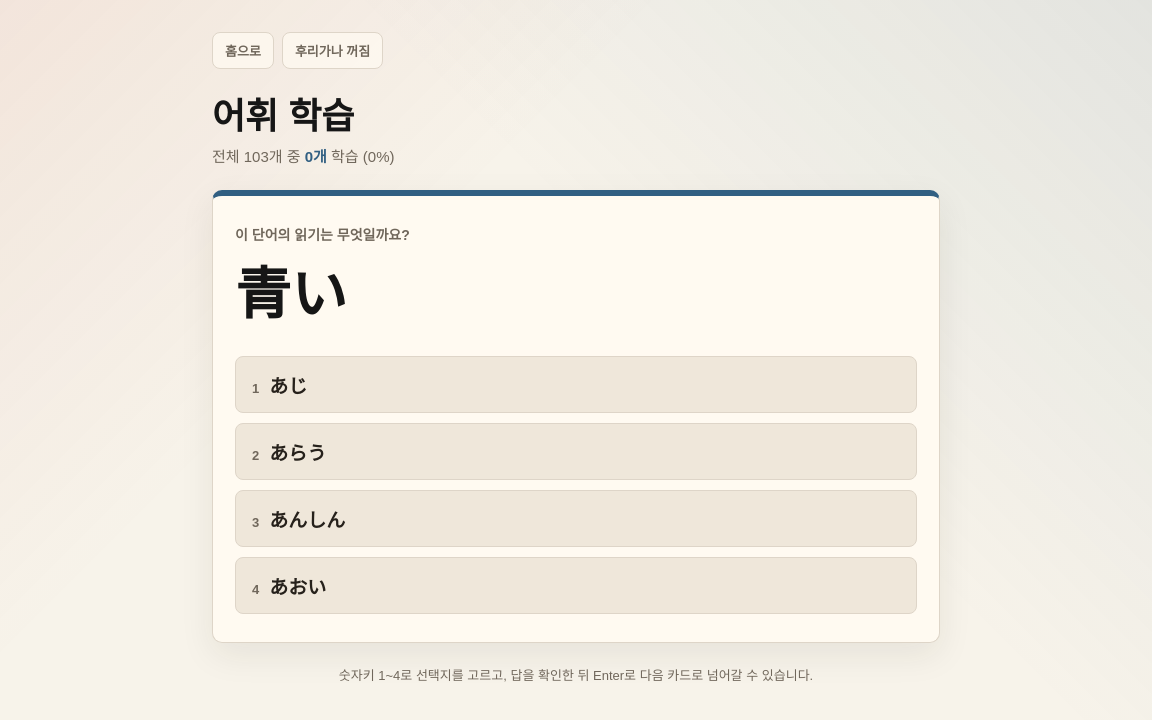
Test: 학습 화면 (S1, AC-4) › 후리가나를 켜고 답하면 예문의 한자에 읽기가 붙는다 (JN4-032)
Click the button "후리가나 꺼짐": (333, 50) [282,32,383,69]
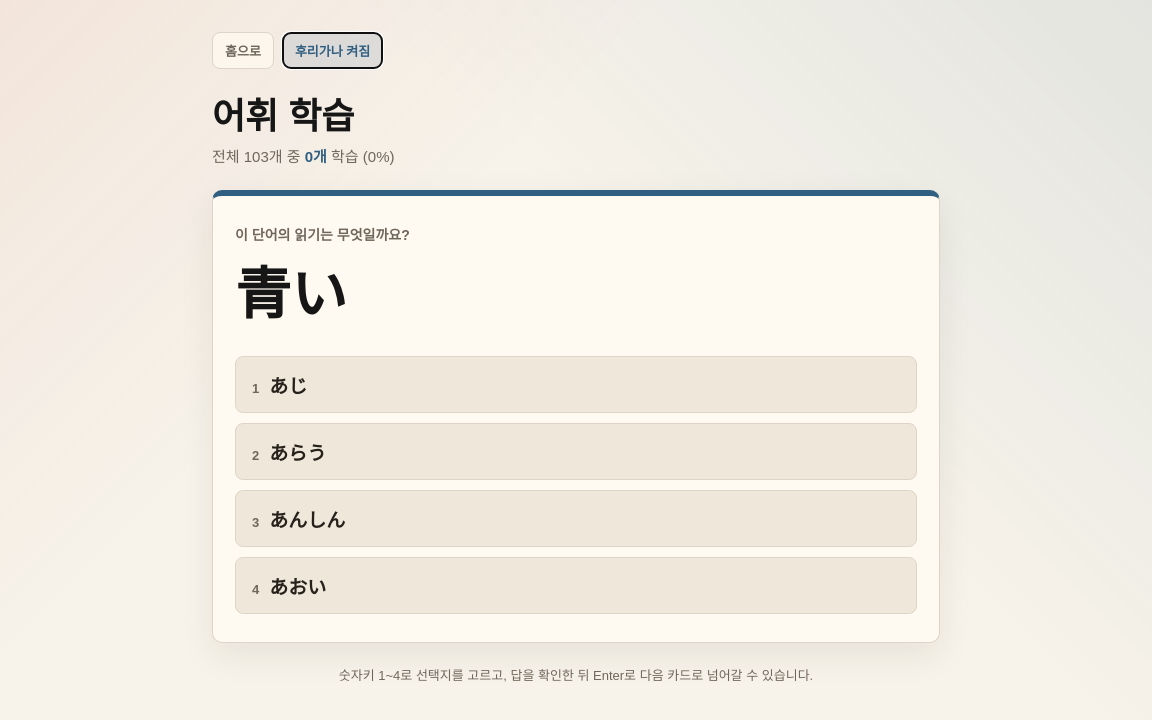
Click the button "4あおい": (298, 588) [235,557,917,614]
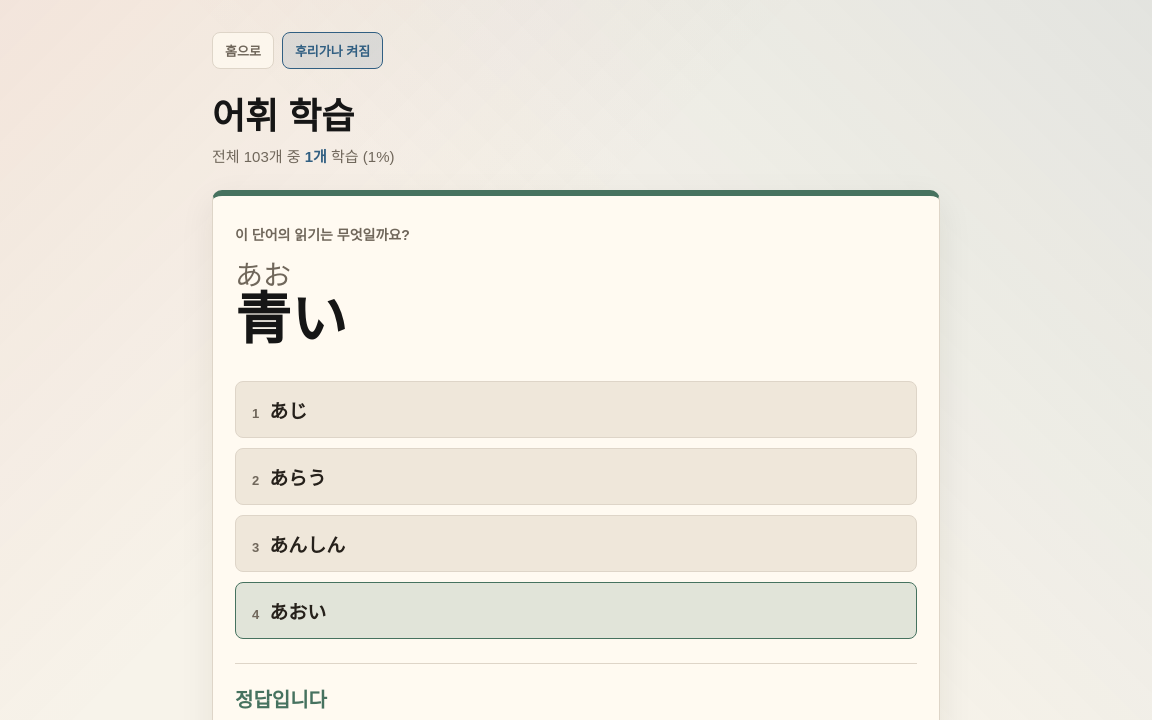
Expected: the element showing "青 あお" is shown, [235,288,291,351]
